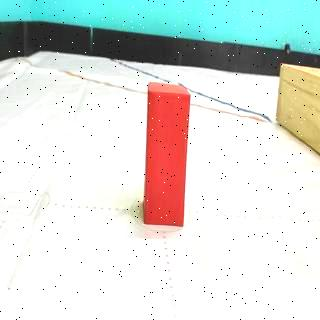redbox: (143, 80, 191, 228)
